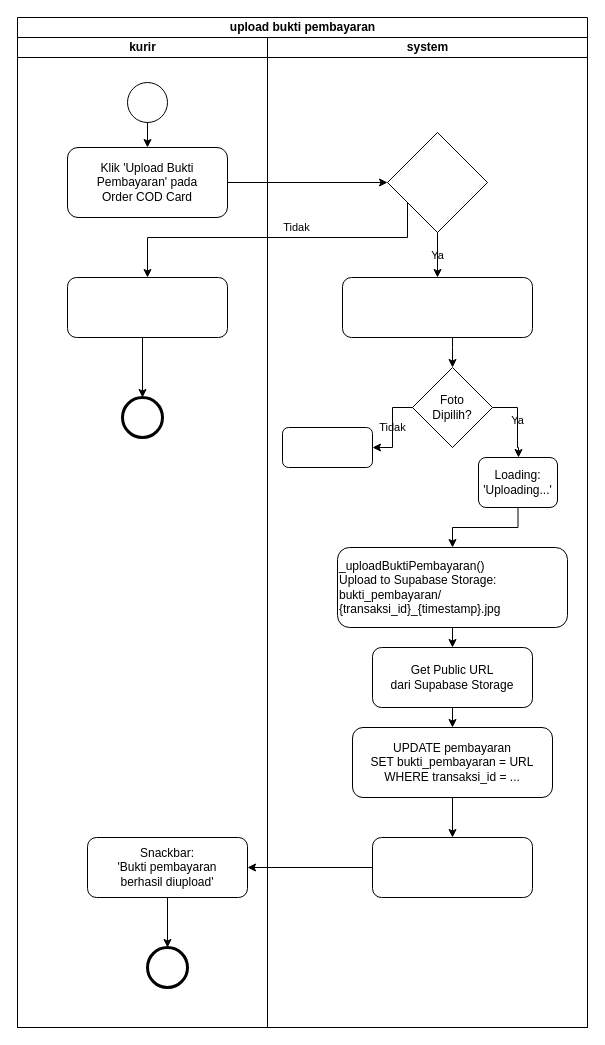
Image size: 605x1045. Some labels were removed from this diagram. The centre of each missing label's shape, as x and y in pixels:
"_loadData() (refresh dashboard)" goes at (x=452, y=867).
"Batal Upload" goes at (x=327, y=447).
"Decision: Ada Pembayaran?" goes at (x=437, y=182).
"ImagePicker.pickImage() (pilih foto dari gallery/kamera)" goes at (x=437, y=307).
"Snackbar: 'Terima pembayaran COD terlebih dahulu'" goes at (x=147, y=307).
